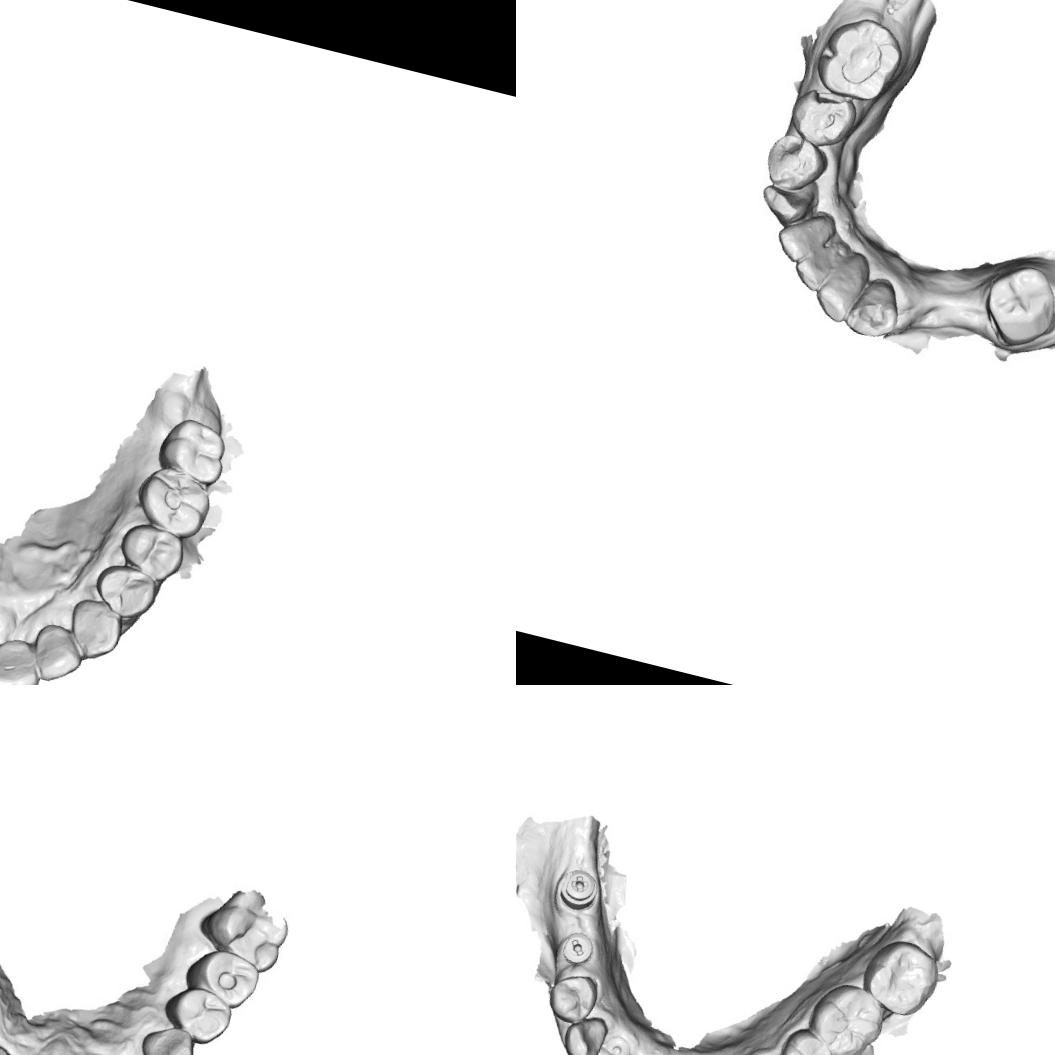canine: (60, 593, 128, 666), (756, 178, 820, 230), (557, 1009, 610, 1055), (132, 1020, 201, 1055)
implant: (602, 1030, 635, 1055)
implant_minus: (556, 928, 597, 969)
implant_plus: (554, 863, 602, 916)
incisor: (808, 248, 872, 328), (840, 270, 906, 344), (770, 204, 838, 270), (24, 618, 87, 685), (788, 233, 842, 296), (0, 630, 47, 685)
molar: (194, 880, 296, 976), (854, 930, 946, 1022), (814, 11, 906, 102), (974, 255, 1055, 355), (800, 976, 891, 1055), (128, 462, 216, 543), (153, 411, 236, 485)
premolar: (178, 941, 264, 1013), (154, 979, 234, 1050), (110, 516, 190, 586), (86, 558, 162, 627), (788, 85, 860, 152), (762, 130, 832, 195), (542, 965, 603, 1029), (773, 1024, 840, 1055)
